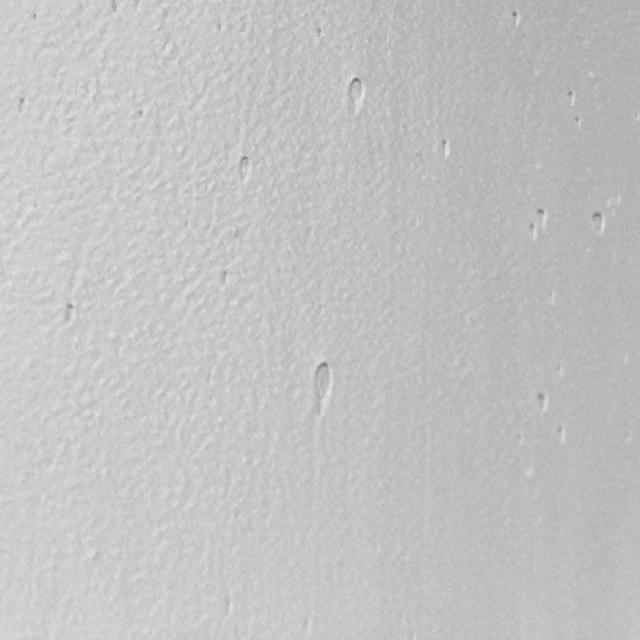pin holes: (307, 360, 335, 410), (345, 75, 367, 112), (58, 302, 81, 329), (234, 154, 254, 184), (588, 208, 609, 235), (534, 389, 553, 414), (534, 206, 552, 232), (436, 138, 454, 161), (13, 93, 31, 115), (525, 221, 541, 245), (553, 424, 567, 445), (509, 9, 523, 28), (566, 89, 578, 106), (573, 116, 584, 131)
